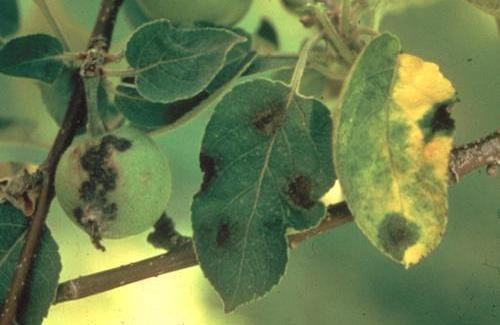Apple Scab Leaf: (190, 71, 340, 325), (331, 29, 460, 275)
